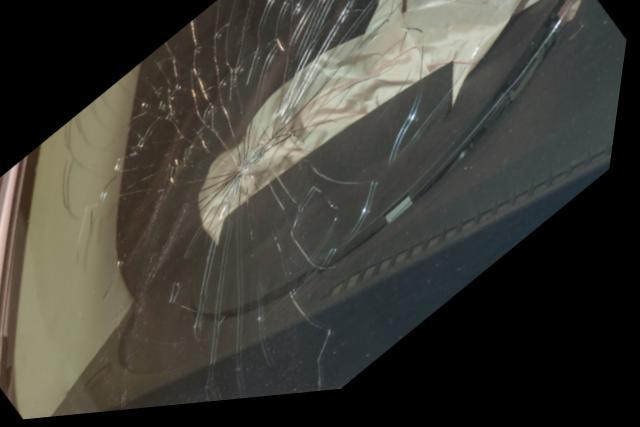glass shatter: (6, 0, 629, 421)
